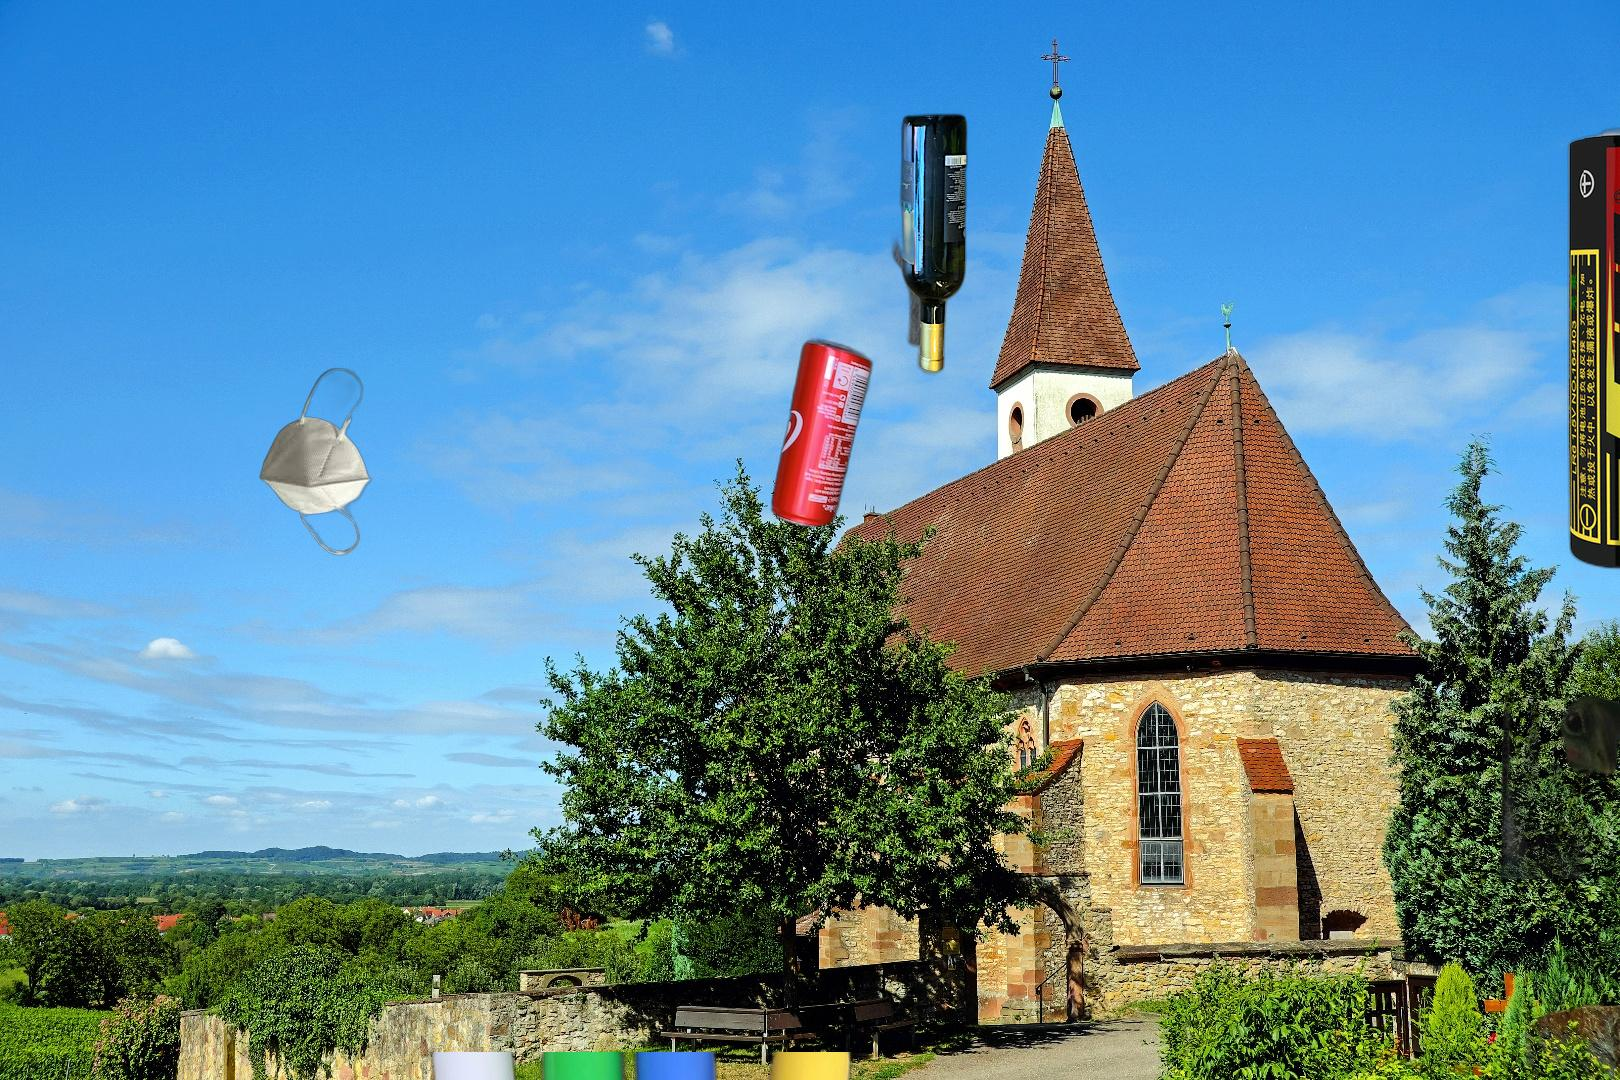battery: (1563, 122, 1620, 574)
clothes: (1, 1079, 400, 1080)
glass: (887, 108, 972, 378)
metal-cans: (767, 334, 876, 533)
paper: (1385, 604, 1620, 879)
penholder: (423, 1052, 857, 1080)
trash: (257, 365, 375, 558)
